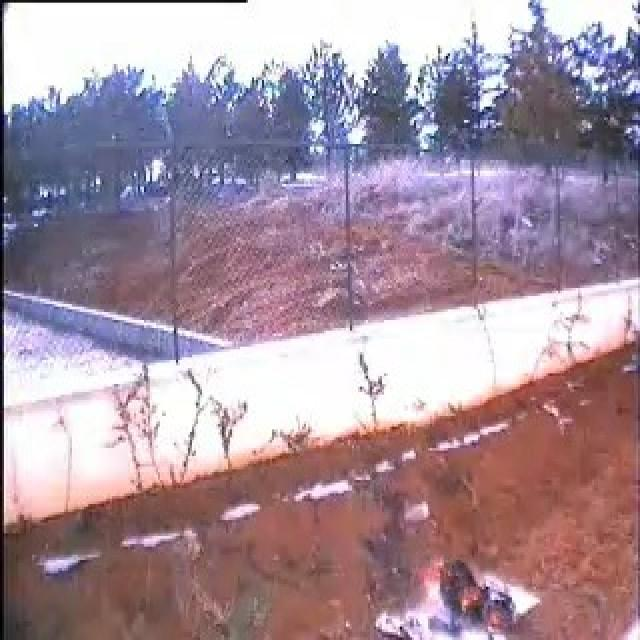fire: (417, 560, 442, 592)
